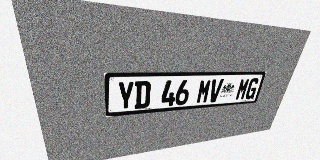4: (161, 80, 177, 107)
6: (174, 80, 191, 105)
D: (134, 81, 151, 109)
G: (244, 78, 260, 99)
M: (196, 79, 212, 104), (234, 78, 251, 100)
V: (207, 79, 224, 103)
Y: (117, 81, 134, 110)
